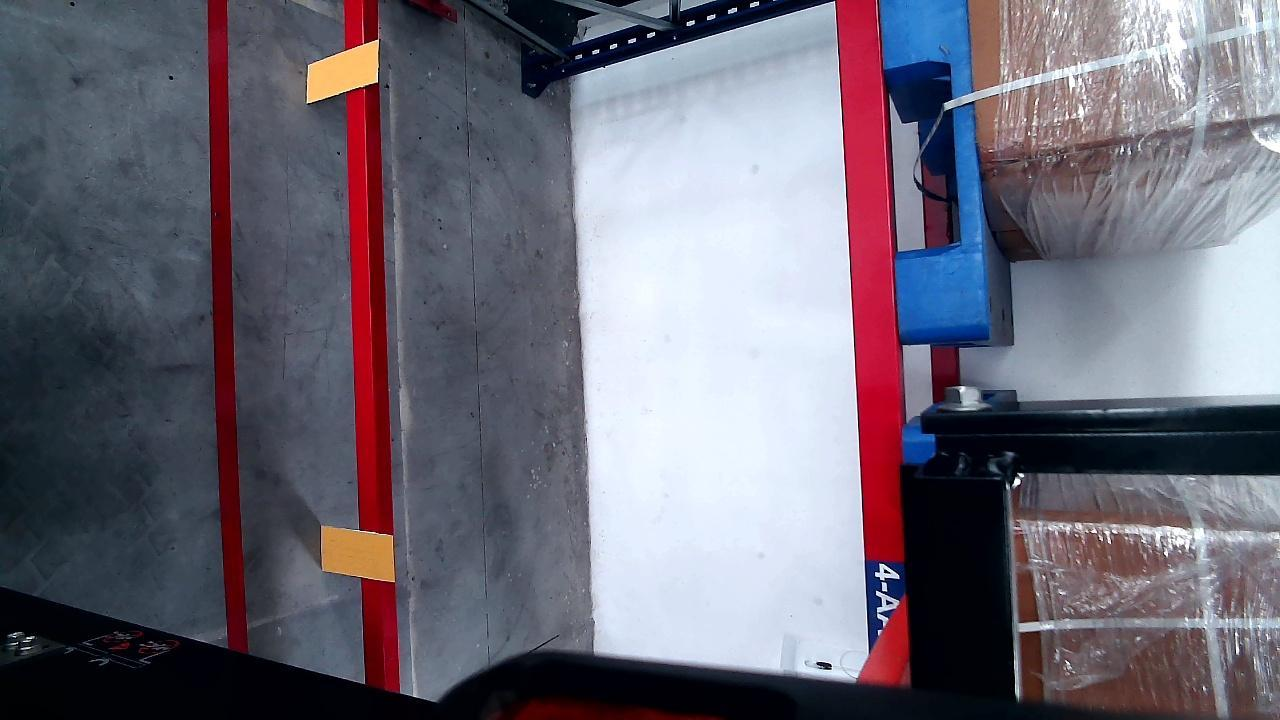red_line: (203, 0, 245, 666)
